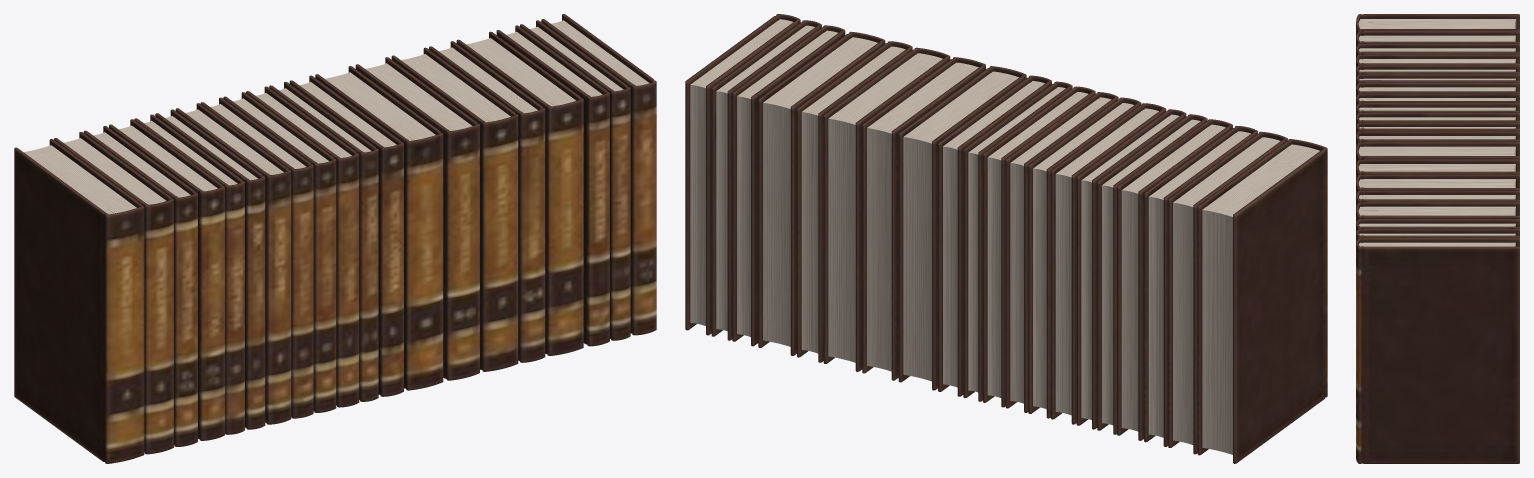
The model's file is book_encyclopedia_set_01.glb.
3 renders of one model, left to right at view 1: azimuth 30°, elevation 25°; view 2: azimuth 150°, elevation 25°; view 3: azimuth 270°, elevation 25°, orthographic. The views are drawn at different scales.
Visible parts, largest first — view 1: book_encyclopedia_set_01_book01, book_encyclopedia_set_01_book13, book_encyclopedia_set_01_book15, book_encyclopedia_set_01_book17, book_encyclopedia_set_01_book14, book_encyclopedia_set_01_book02, book_encyclopedia_set_01_book16, book_encyclopedia_set_01_book04, book_encyclopedia_set_01_book18, book_encyclopedia_set_01_book20, book_encyclopedia_set_01_book07, book_encyclopedia_set_01_book12 (+8 smaller); view 2: book_encyclopedia_set_01_book01, book_encyclopedia_set_01_book13, book_encyclopedia_set_01_book15, book_encyclopedia_set_01_book17, book_encyclopedia_set_01_book14, book_encyclopedia_set_01_book02, book_encyclopedia_set_01_book04, book_encyclopedia_set_01_book16, book_encyclopedia_set_01_book18, book_encyclopedia_set_01_book20, book_encyclopedia_set_01_book07, book_encyclopedia_set_01_book12 (+8 smaller); view 3: book_encyclopedia_set_01_book20, book_encyclopedia_set_01_book13, book_encyclopedia_set_01_book01, book_encyclopedia_set_01_book17, book_encyclopedia_set_01_book15, book_encyclopedia_set_01_book14, book_encyclopedia_set_01_book02, book_encyclopedia_set_01_book16, book_encyclopedia_set_01_book03, book_encyclopedia_set_01_book12, book_encyclopedia_set_01_book07, book_encyclopedia_set_01_book04 (+8 smaller).
Boxes of the visible parts, bbox=[...] form: book_encyclopedia_set_01_book01: bbox=[14, 139, 144, 463]; book_encyclopedia_set_01_book13: bbox=[315, 66, 443, 390]; book_encyclopedia_set_01_book15: bbox=[391, 47, 518, 371]; book_encyclopedia_set_01_book17: bbox=[456, 31, 583, 355]; book_encyclopedia_set_01_book14: bbox=[355, 57, 479, 380]; book_encyclopedia_set_01_book02: bbox=[54, 132, 173, 454]; book_encyclopedia_set_01_book16: bbox=[429, 41, 545, 362]; book_encyclopedia_set_01_book04: bbox=[109, 119, 224, 440]; book_encyclopedia_set_01_book18: bbox=[496, 25, 609, 346]; book_encyclopedia_set_01_book20: bbox=[541, 14, 656, 335]; book_encyclopedia_set_01_book07: bbox=[175, 103, 291, 424]; book_encyclopedia_set_01_book12: bbox=[289, 75, 403, 396]; book_encyclopedia_set_01_book01: bbox=[1197, 139, 1327, 463]; book_encyclopedia_set_01_book13: bbox=[898, 66, 1026, 390]; book_encyclopedia_set_01_book15: bbox=[823, 47, 950, 371]; book_encyclopedia_set_01_book17: bbox=[758, 32, 885, 355]; book_encyclopedia_set_01_book14: bbox=[862, 57, 985, 380]; book_encyclopedia_set_01_book02: bbox=[1168, 131, 1287, 454]; book_encyclopedia_set_01_book04: bbox=[1117, 119, 1232, 440]; book_encyclopedia_set_01_book16: bbox=[797, 41, 912, 362]; book_encyclopedia_set_01_book18: bbox=[732, 25, 845, 346]; book_encyclopedia_set_01_book20: bbox=[685, 14, 800, 335]; book_encyclopedia_set_01_book07: bbox=[1051, 103, 1166, 424]; book_encyclopedia_set_01_book12: bbox=[938, 75, 1051, 396]; book_encyclopedia_set_01_book20: bbox=[1356, 238, 1519, 463]; book_encyclopedia_set_01_book13: bbox=[1356, 142, 1519, 164]; book_encyclopedia_set_01_book01: bbox=[1356, 14, 1519, 35]; book_encyclopedia_set_01_book17: bbox=[1356, 202, 1519, 222]; book_encyclopedia_set_01_book15: bbox=[1356, 174, 1519, 194]; book_encyclopedia_set_01_book14: bbox=[1356, 159, 1519, 180]; book_encyclopedia_set_01_book02: bbox=[1356, 30, 1519, 47]; book_encyclopedia_set_01_book16: bbox=[1356, 190, 1519, 208]; book_encyclopedia_set_01_book03: bbox=[1356, 43, 1519, 58]; book_encyclopedia_set_01_book12: bbox=[1356, 131, 1519, 148]; book_encyclopedia_set_01_book07: bbox=[1356, 82, 1519, 96]; book_encyclopedia_set_01_book04: bbox=[1356, 54, 1519, 68].
Bounding box in the file's own units: 0.5513 × 0.2374 × 0.1631.
2 materials, 2 textured.
